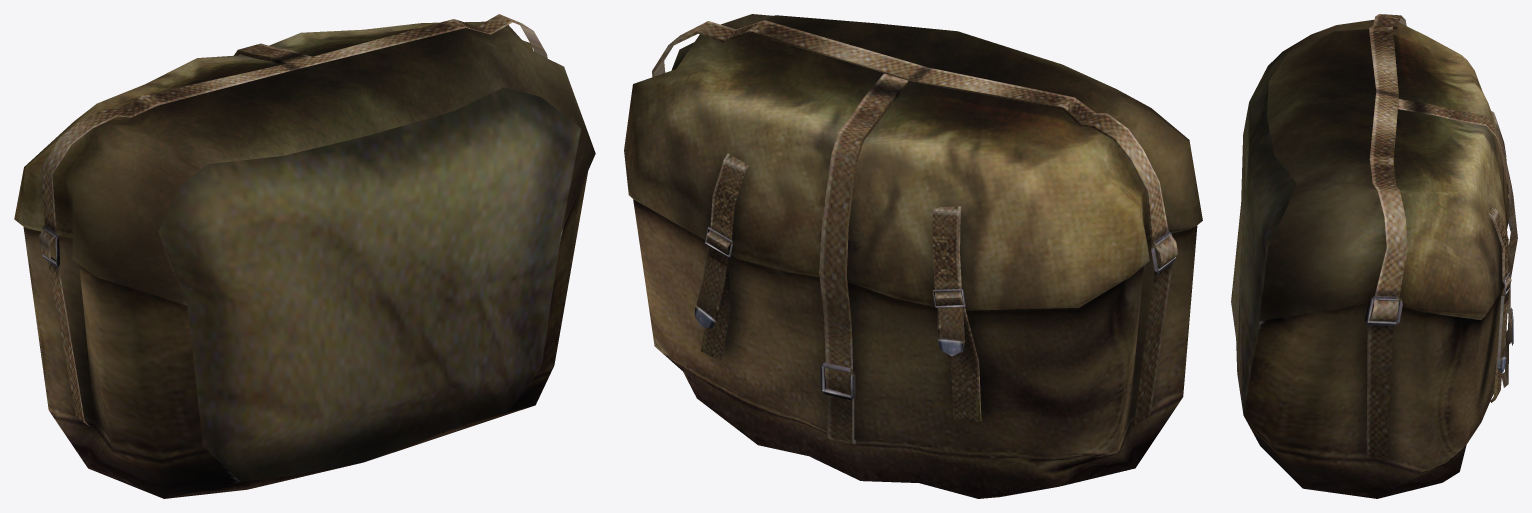
File: bag big.FBX
3 renders of one model, left to right at view 1: azimuth 30°, elevation 25°; view 2: azimuth 150°, elevation 25°; view 3: azimuth 270°, elevation 25°, orthographic. The views are drawn at different scales.
Parts seen in each view (by area): view 1: bag big; view 2: bag big; view 3: bag big.
Part boxes in pixels (x1,y1,x2,y2): bag big: (14,14,595,498); bag big: (624,14,1202,498); bag big: (1231,14,1517,498).
Size of the model in its own units: 0.4163 by 0.2258 by 0.3001.
